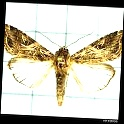Spodoptera litura: (3, 26, 121, 107)
